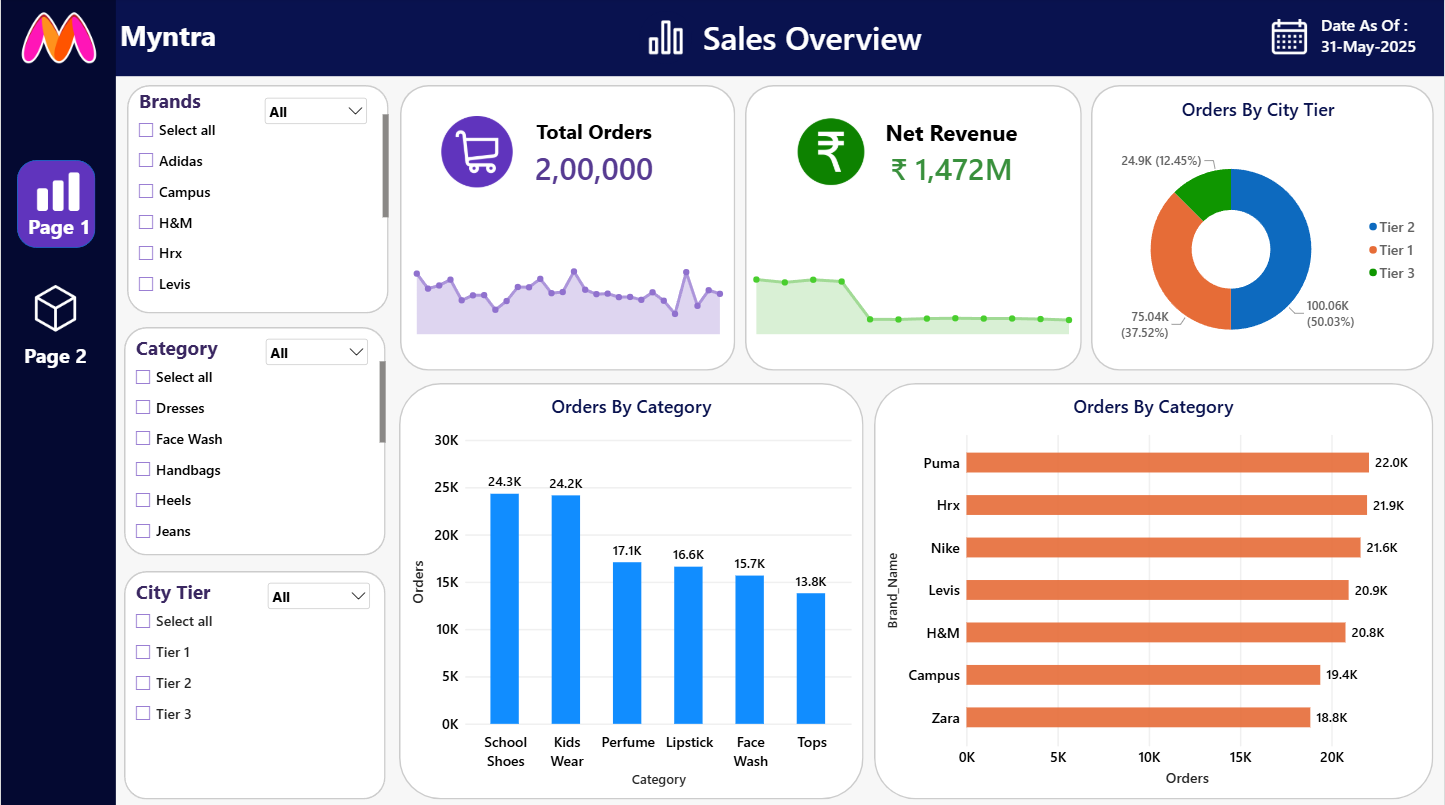

Layout of this report page (visuals, bound fields, positions):
{"tool":"powerbi","page":{"name":"Sales OverView","canvas":[1920,1080],"ordinal":0},"visuals":[{"type":"shape","box":[0,0,152.8,1080.3],"z":0,"group":"g13"},{"type":"shape","box":[0,0,1920,104],"z":0,"group":"g12"},{"type":"textbox","box":[933.8,21.8,298,66],"z":0,"group":"g5"},{"type":"group","id":"g1","title":"Brands Slicer","box":[168,116,348,304],"z":0},{"type":"shape","box":[168,116,348,304],"z":0,"group":"g1"},{"type":"shape","box":[530,116,446,380],"z":0,"group":"g11"},{"type":"shape","box":[990,116,448,380],"z":0,"group":"g10"},{"type":"shape","box":[1450,116,456,380],"z":0,"group":"g9"},{"type":"shape","box":[21.8,215.1,104.4,116.9],"z":0,"group":"g2"},{"type":"image","box":[35.1,382.4,76.4,62.4],"z":0,"group":"g3"},{"type":"shape","box":[164,437,348,304],"z":0,"group":"g4"},{"type":"shape","box":[530,512,618,554],"z":0,"group":"g8"},{"type":"shape","box":[1162,512,744,554],"z":0,"group":"g7"},{"type":"shape","box":[164,762,348,304],"z":0,"group":"g6"},{"type":"image","box":[838.7,17.1,90.4,70.2],"z":1000,"group":"g5"},{"type":"image","title":"Calendar","box":[1681.7,28.3,65,46.7],"z":1000,"group":"g12"},{"type":"donutChart","title":"Orders By City Tier","fields":{"Category":["myntra_db orders.City_Tier"],"Y":["CountNonNull(myntra_db orders.Order_ID)"]},"box":[1438.3,116.7,468.3,388.3],"z":1000,"group":"g9"},{"type":"slicer","fields":{"Values":["myntra_db orders.Brand_Name"]},"box":[176,120,340,284],"z":1000,"group":"g1"},{"type":"cardVisual","title":"Total Orders","fields":{"Data":["CountNonNull(myntra_db orders.Order_ID)"]},"box":[692.2,143.4,194,124],"z":1000,"group":"g11"},{"type":"group","id":"g2","title":"Page 1","box":[21.8,215.1,115.4,116.9],"z":1000,"group":"g13"},{"type":"image","box":[26.5,226,98.9,62.9],"z":1000,"group":"g2"},{"type":"lineChart","title":"Chart","fields":{"Category":["Date.Date.Variation.Date Hierarchy.Month"],"Y":["Sum(myntra_db orders.Net_Revenue)"]},"box":[974,336,478,128],"z":1000,"group":"g10"},{"type":"slicer","fields":{"Values":["myntra_db orders.Category"]},"box":[172,448,340,284],"z":1000,"group":"g4"},{"type":"textbox","box":[31.7,456.8,90.4,39],"z":1000,"group":"g3"},{"type":"columnChart","title":"Orders By Category","fields":{"Category":["myntra_db orders.Category"],"Y":["CountNonNull(myntra_db orders.Order_ID)"]},"box":[530,511.7,618.3,553.3],"z":1000,"group":"g8"},{"type":"barChart","title":"Orders By Category","fields":{"Category":["myntra_db orders.Brand_Name"],"Y":["CountNonNull(myntra_db orders.Order_ID)"]},"box":[1161.7,511.7,743.3,553.3],"z":1000,"group":"g7"},{"type":"slicer","title":"City Tier","fields":{"Values":["myntra_db orders.City_Tier"]},"box":[172,772,340,284],"z":1000,"group":"g6"},{"type":"textbox","title":"Date","box":[1755,21.7,133.3,61.7],"z":2000,"group":"g12"},{"type":"slicer","title":"All Slicer","fields":{"Values":["myntra_db orders.Brand_Name"]},"box":[346,128,146,56],"z":2000,"group":"g1"},{"type":"cardVisual","title":"Net Revenue","fields":{"Data":["Sum(myntra_db orders.Net_Revenue)"]},"box":[1148.9,143.4,230,124],"z":2000,"group":"g10"},{"type":"textbox","box":[35.8,283.7,101.3,39],"z":2000,"group":"g2"},{"type":"lineChart","title":"Chart","fields":{"Category":["Date.Date.Variation.Date Hierarchy.Day"],"Y":["Sum(myntra_db orders.Quantity)"]},"box":[512,336,500,128],"z":2000,"group":"g11"},{"type":"group","id":"g3","title":"Page 2","box":[25.8,379.3,104.4,116.9],"z":2000,"group":"g13"},{"type":"actionButton","box":[25.8,379.3,104.4,116.9],"z":2000,"group":"g3"},{"type":"group","id":"g4","title":"Category Slicer","box":[164,437,348,304],"z":2000},{"type":"slicer","title":"All Slicer","fields":{"Values":["myntra_db orders.Category"]},"box":[348,448,146,56],"z":2000,"group":"g4"},{"type":"slicer","title":"All Slicer","fields":{"Values":["myntra_db orders.City_Tier"]},"box":[350,772,146,56],"z":2000,"group":"g6"},{"type":"image","title":"Myntra Logo","box":[14,12.5,124.7,82.6],"z":3000,"group":"g13"},{"type":"group","id":"g5","title":"Title","box":[838.7,17.1,392.8,70.2],"z":3000,"group":"g12"},{"type":"image","title":"Cart","box":[562.8,157.4,140.3,95.1],"z":3000,"group":"g11"},{"type":"image","title":"Ruppes","box":[1033.5,157.4,140.3,95.1],"z":3000,"group":"g10"},{"type":"group","id":"g6","title":"City Tier Slicer","box":[164,762,348,304],"z":3000},{"type":"textbox","title":"Myntra Text","box":[152.8,23.4,138.7,57.7],"z":4000,"group":"g12"},{"type":"group","id":"g7","title":"Bar Chart","box":[1161.7,511.7,744.3,554.3],"z":4000},{"type":"group","id":"g8","title":"Column Chart","box":[530,511.7,618.3,554.3],"z":5000},{"type":"group","id":"g9","title":"Donut Chart","box":[1438.3,116,468.3,389],"z":6000},{"type":"group","id":"g10","title":"2 KPI","box":[974,116,478,380],"z":7000},{"type":"group","id":"g11","title":"1 KPI","box":[512,116,500,380],"z":8000},{"type":"group","id":"g12","title":"Header","box":[0,0,1920,104],"z":9000},{"type":"group","id":"g13","title":"Sidebar","box":[0,0,152.8,1080.3],"z":10000}]}

Visuals, with their boxes in screenshot pixels (x1, y1, x2, y2), scaled from the page's 1920x1080 canvas onto the 1445x805 screenshot:
shape: x1=0, y1=0, x2=115, y2=804
shape: x1=0, y1=0, x2=1444, y2=78
textbox: x1=703, y1=16, x2=927, y2=65
"Brands Slicer" group: x1=126, y1=86, x2=388, y2=313
shape: x1=126, y1=86, x2=388, y2=313
shape: x1=399, y1=86, x2=735, y2=370
shape: x1=745, y1=86, x2=1082, y2=370
shape: x1=1091, y1=86, x2=1434, y2=370
shape: x1=16, y1=160, x2=95, y2=247
image: x1=26, y1=285, x2=84, y2=332
shape: x1=123, y1=326, x2=385, y2=552
shape: x1=399, y1=382, x2=864, y2=795
shape: x1=875, y1=382, x2=1434, y2=795
shape: x1=123, y1=568, x2=385, y2=795
image: x1=631, y1=13, x2=699, y2=65
"Calendar" image: x1=1266, y1=21, x2=1315, y2=56
"Orders By City Tier" donutChart: x1=1082, y1=87, x2=1435, y2=376
slicer - myntra_db orders.Brand_Name: x1=132, y1=89, x2=388, y2=301
"Total Orders" cardVisual: x1=521, y1=107, x2=667, y2=199
"Page 1" group: x1=16, y1=160, x2=103, y2=247
image: x1=20, y1=168, x2=94, y2=215
"Chart" lineChart: x1=733, y1=250, x2=1093, y2=346
slicer - myntra_db orders.Category: x1=129, y1=334, x2=385, y2=546
textbox: x1=24, y1=340, x2=92, y2=370
"Orders By Category" columnChart: x1=399, y1=381, x2=864, y2=794
"Orders By Category" barChart: x1=874, y1=381, x2=1434, y2=794
"City Tier" slicer: x1=129, y1=575, x2=385, y2=787
"Date" textbox: x1=1321, y1=16, x2=1421, y2=62
"All Slicer" slicer: x1=260, y1=95, x2=370, y2=137
"Net Revenue" cardVisual: x1=865, y1=107, x2=1038, y2=199
textbox: x1=27, y1=211, x2=103, y2=241
"Chart" lineChart: x1=385, y1=250, x2=762, y2=346
"Page 2" group: x1=19, y1=283, x2=98, y2=370
actionButton: x1=19, y1=283, x2=98, y2=370
"Category Slicer" group: x1=123, y1=326, x2=385, y2=552
"All Slicer" slicer: x1=262, y1=334, x2=372, y2=376
"All Slicer" slicer: x1=263, y1=575, x2=373, y2=617
"Myntra Logo" image: x1=11, y1=9, x2=104, y2=71
"Title" group: x1=631, y1=13, x2=927, y2=65
"Cart" image: x1=424, y1=117, x2=529, y2=188
"Ruppes" image: x1=778, y1=117, x2=883, y2=188
"City Tier Slicer" group: x1=123, y1=568, x2=385, y2=795
"Myntra Text" textbox: x1=115, y1=17, x2=219, y2=60
"Bar Chart" group: x1=874, y1=381, x2=1434, y2=795
"Column Chart" group: x1=399, y1=381, x2=864, y2=795
"Donut Chart" group: x1=1082, y1=86, x2=1435, y2=376
"2 KPI" group: x1=733, y1=86, x2=1093, y2=370
"1 KPI" group: x1=385, y1=86, x2=762, y2=370
"Header" group: x1=0, y1=0, x2=1444, y2=78
"Sidebar" group: x1=0, y1=0, x2=115, y2=804
